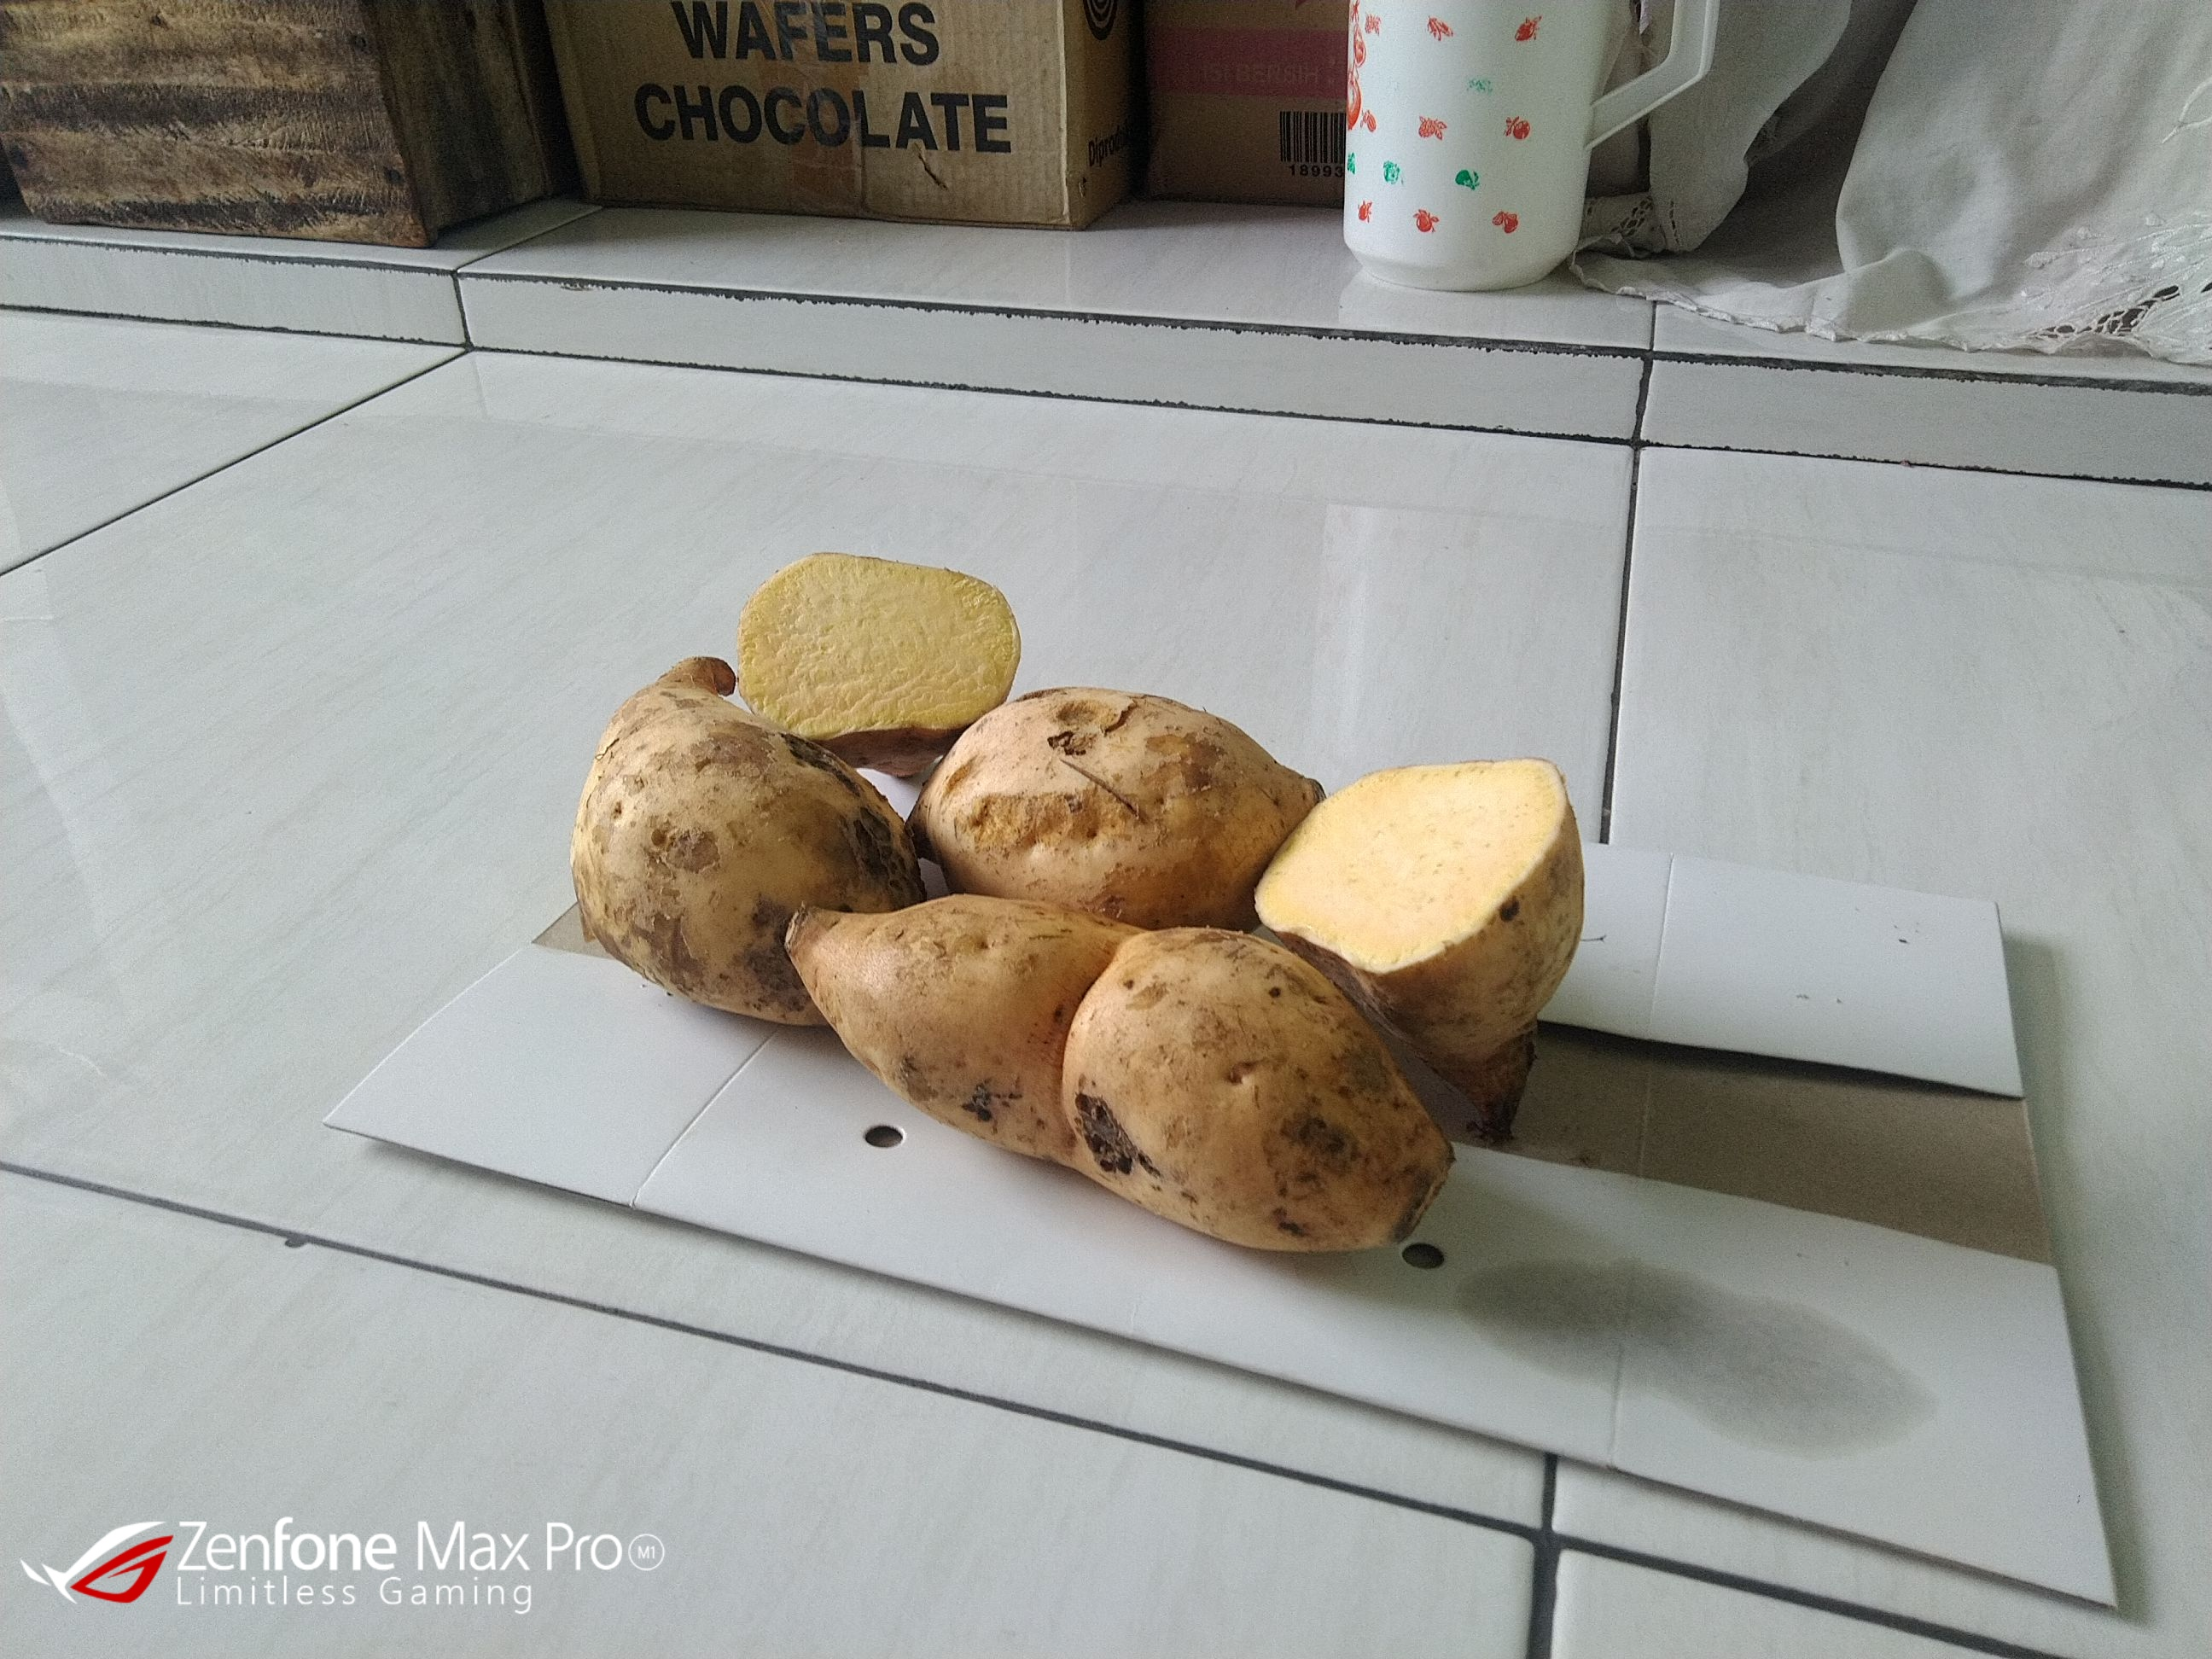ubi kuning: (766, 887, 1463, 1265), (575, 657, 927, 1051), (897, 678, 1324, 941), (1254, 753, 1609, 1065), (740, 547, 1033, 744)
